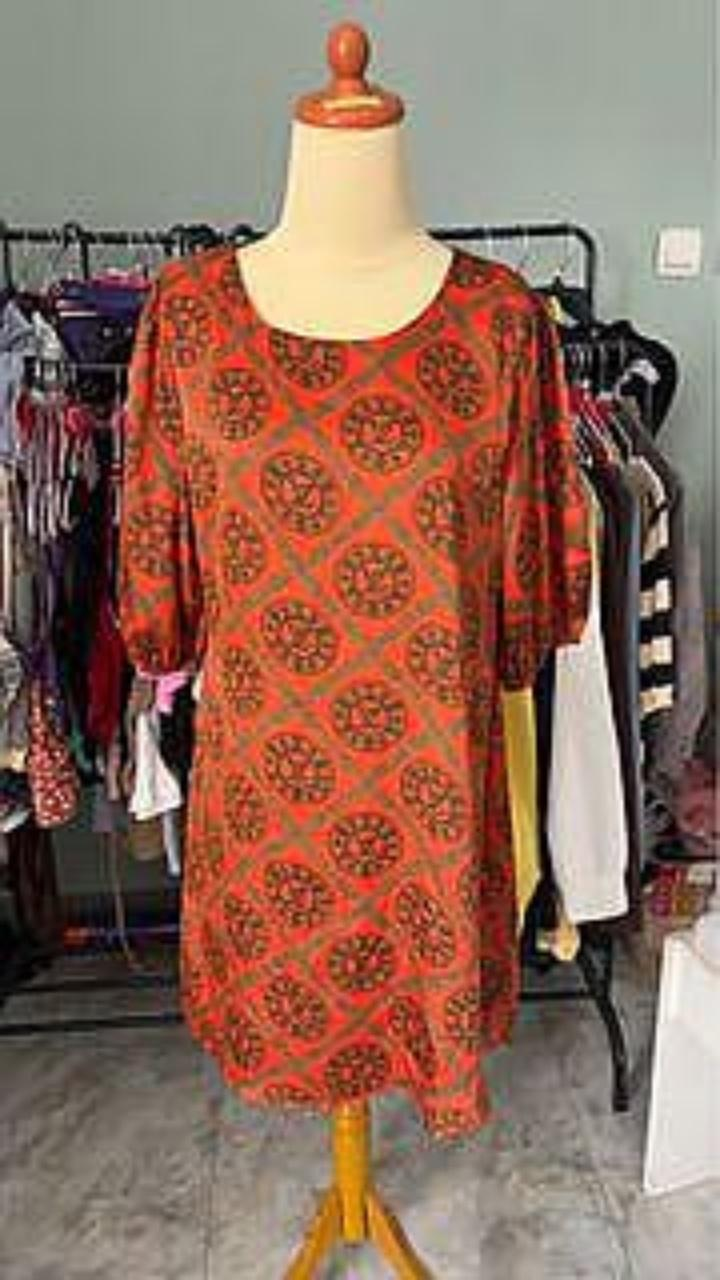Dresses: (121, 247, 588, 1133)
